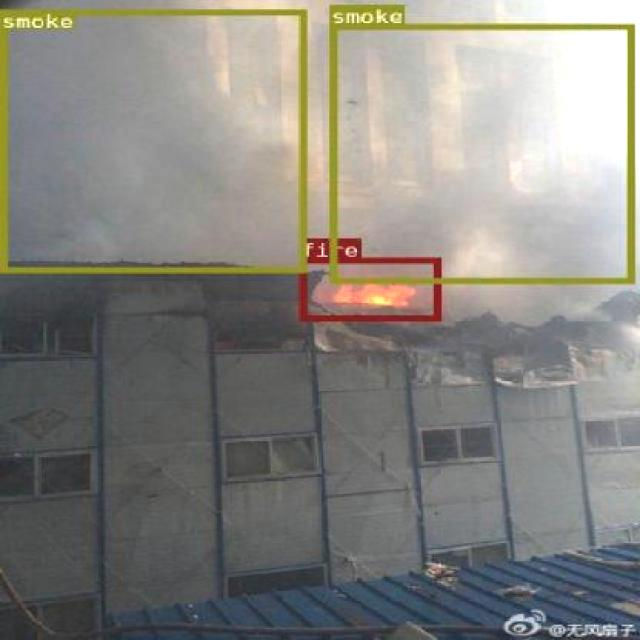fire: (298, 257, 440, 320)
smoke: (1, 9, 304, 271), (330, 23, 633, 283)
